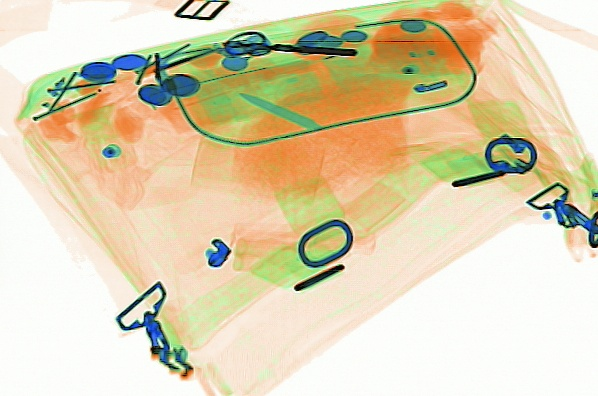knife: (239, 89, 393, 171)
